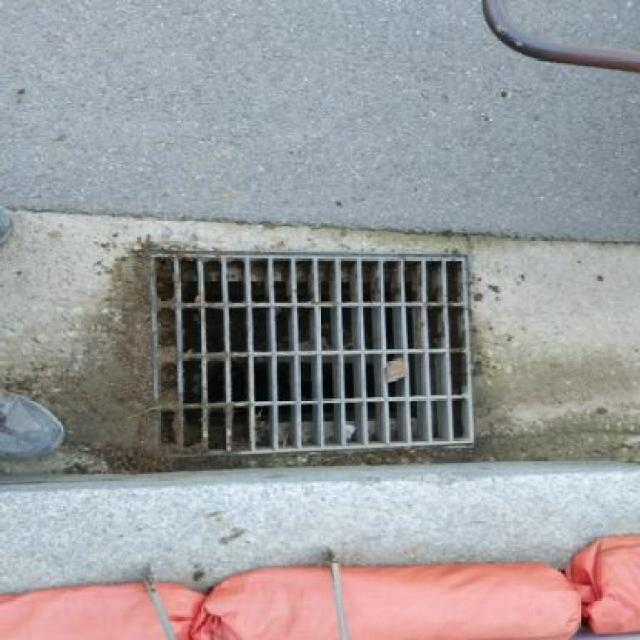Drain Hole: (128, 234, 492, 460)
